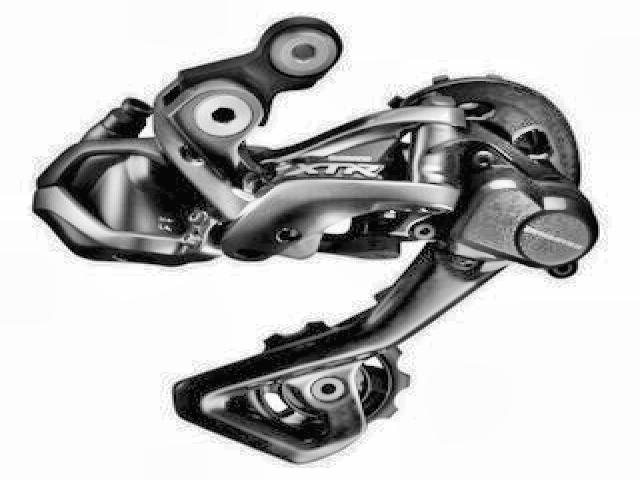rear_derailleur: (26, 8, 604, 466)
